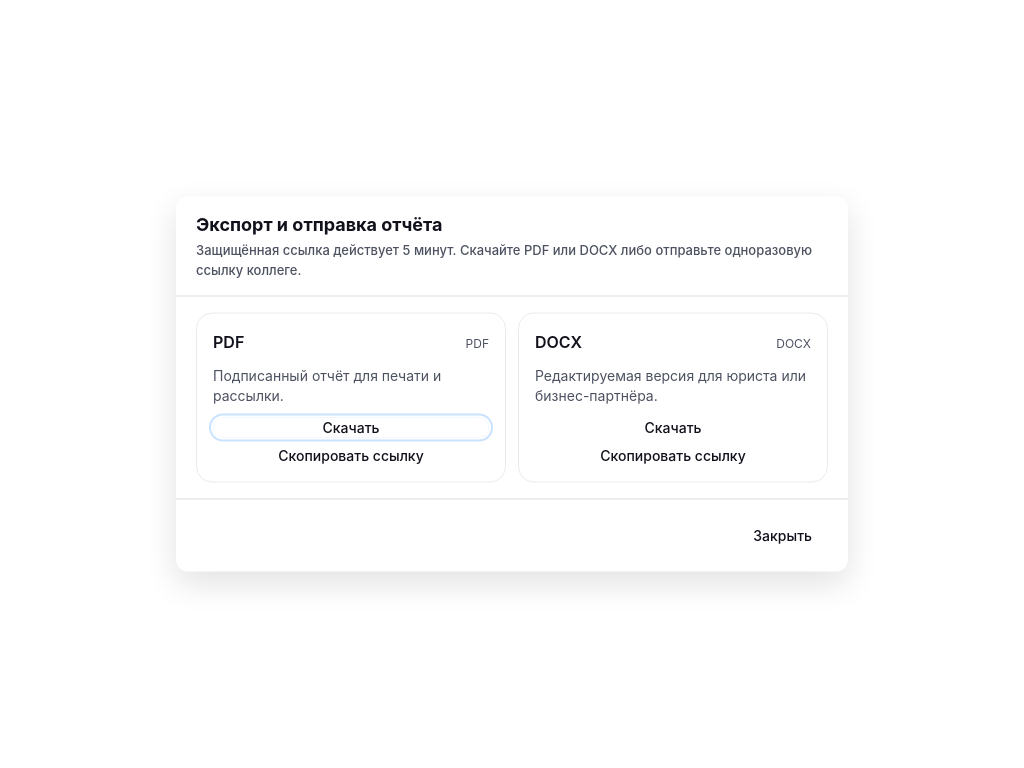
ExportShareModal — share flow › клик «Скопировать ссылку» → clipboard.writeText + checkmark
Click the button with test id "export-share-pdf" at (351, 456), box x1=213 y1=446 x2=489 y2=466
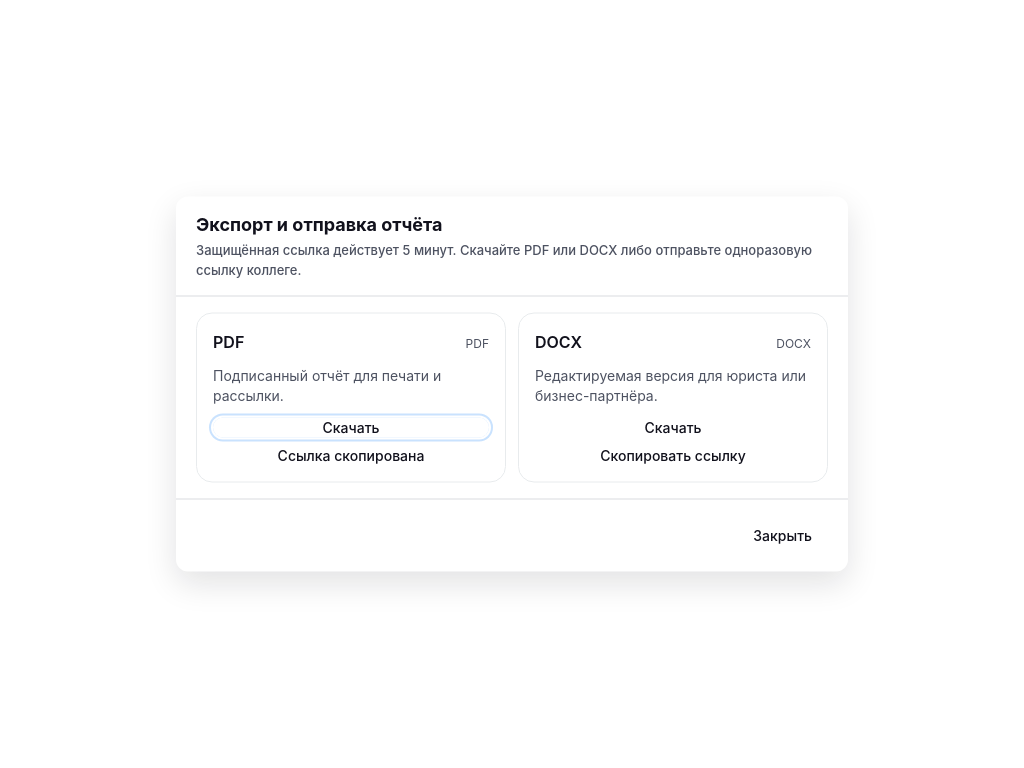
Expected: the button "Ссылка скопирована" is shown, x1=213 y1=446 x2=489 y2=466
